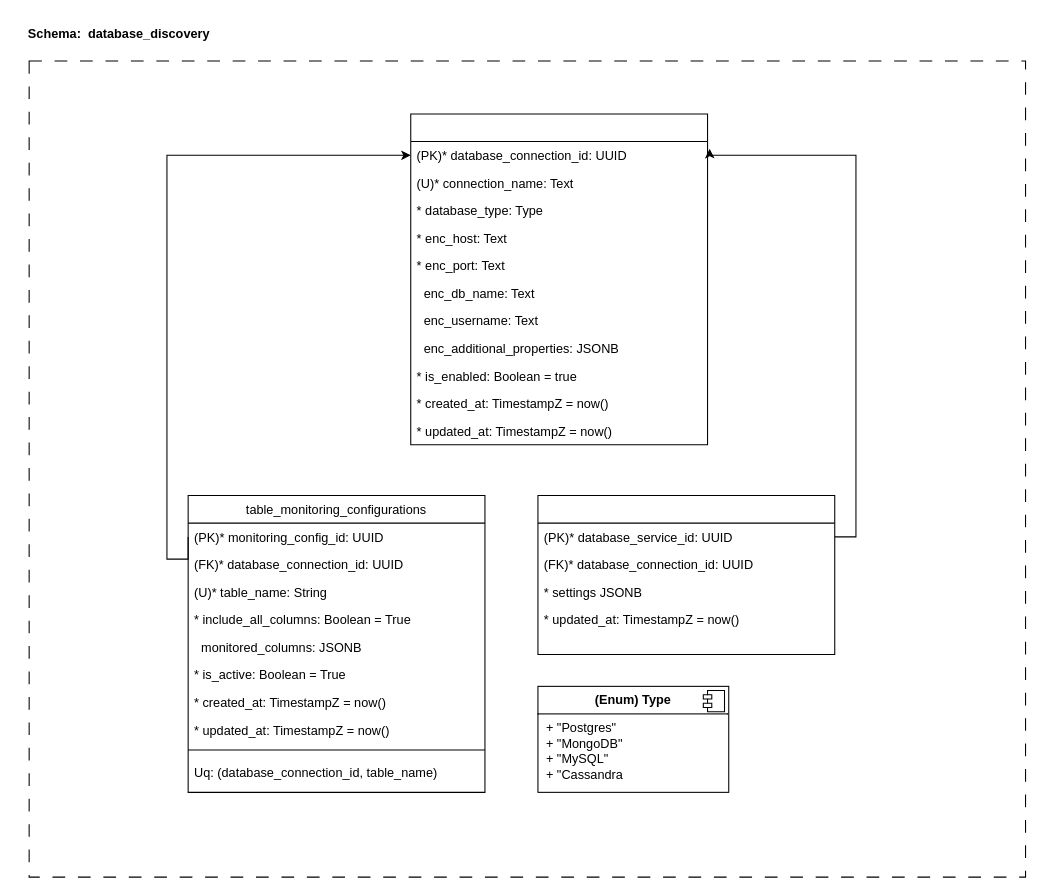
Image size: 1044x896. Some labels were removed from this diagram. The shapes that lost their labels are listed below. From the top down, each one's box as (x1, y1, x2, y2) in pixels, then its label:
(410, 113, 708, 445): database_connections
(537, 494, 835, 655): database_service_settings
